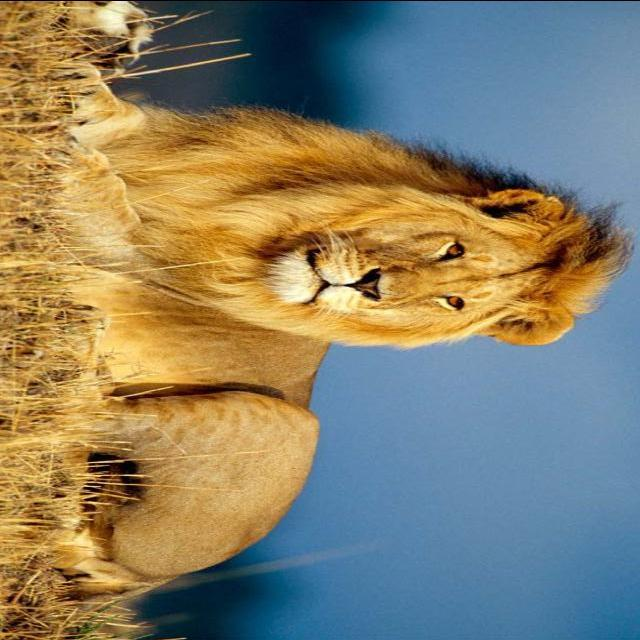lions: (23, 45, 640, 564)
